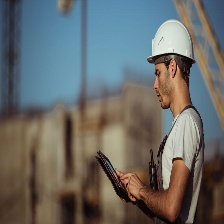helmet: (147, 18, 200, 70)
person: (144, 16, 208, 224)
